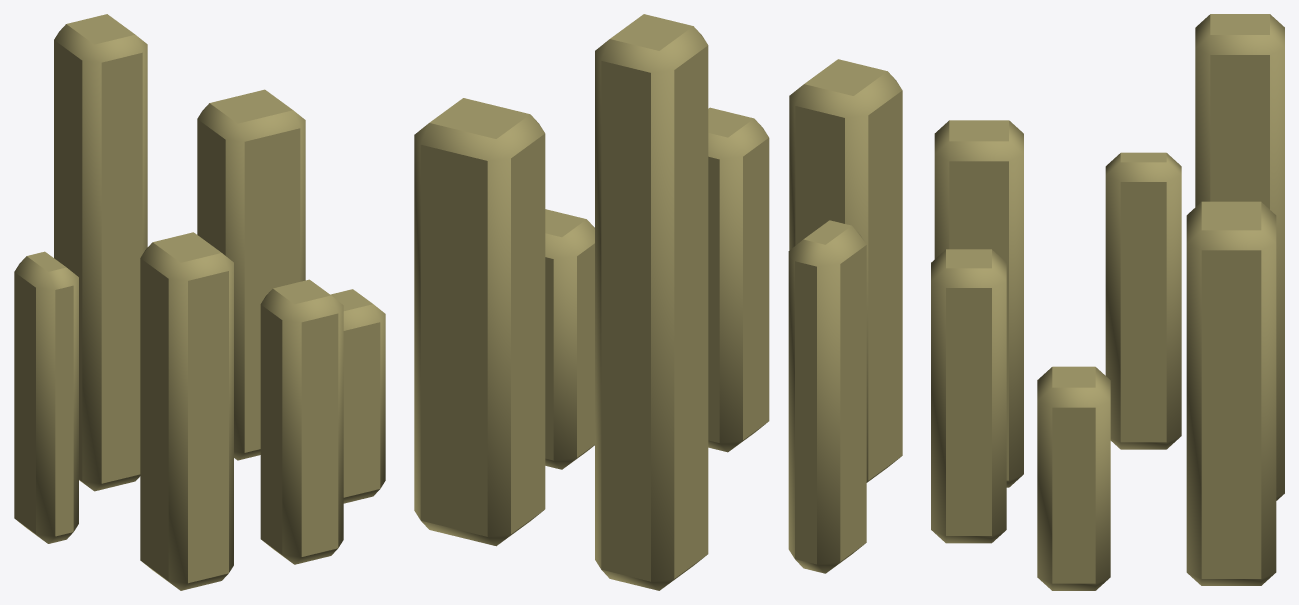
Rendered from Grass_Big.glb.
The picture shows the model from 3 angles, left to right: view 1: azimuth 30°, elevation 25°; view 2: azimuth 150°, elevation 25°; view 3: azimuth 270°, elevation 25°; orthographic projection. The views are drawn at different scales.
Parts seen in each view (by area): view 1: Grass_Big; view 2: Grass_Big; view 3: Grass_Big.
Boxes of the visible parts, x1,y1,x2,y2 form: Grass_Big: [14, 14, 385, 590]; Grass_Big: [414, 14, 902, 590]; Grass_Big: [931, 14, 1284, 590].
Size of the model in its own units: 0.7759 by 1.04 by 0.7101.
1 material, 1 textured.
